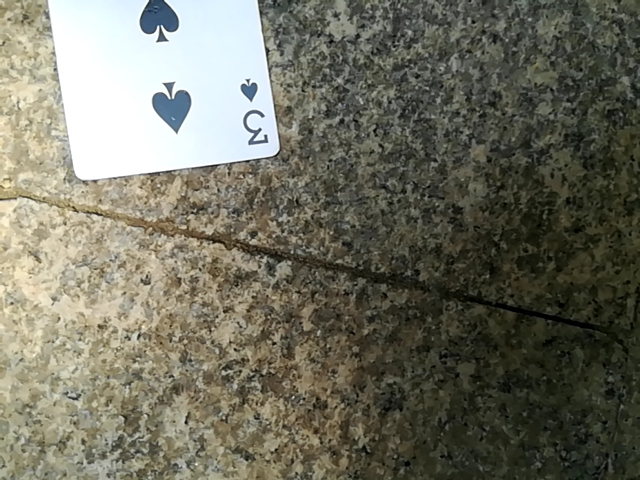ht 3: (23, 0, 277, 182)
